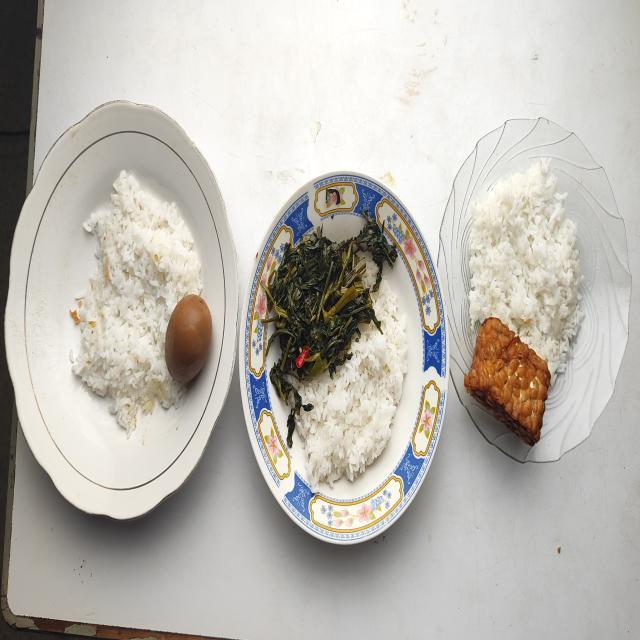nasi_putih: (73, 171, 203, 437), (469, 160, 580, 380), (298, 280, 408, 486)
tempe_goreng: (464, 318, 550, 446)
tumis_kangkung: (260, 212, 398, 446)
